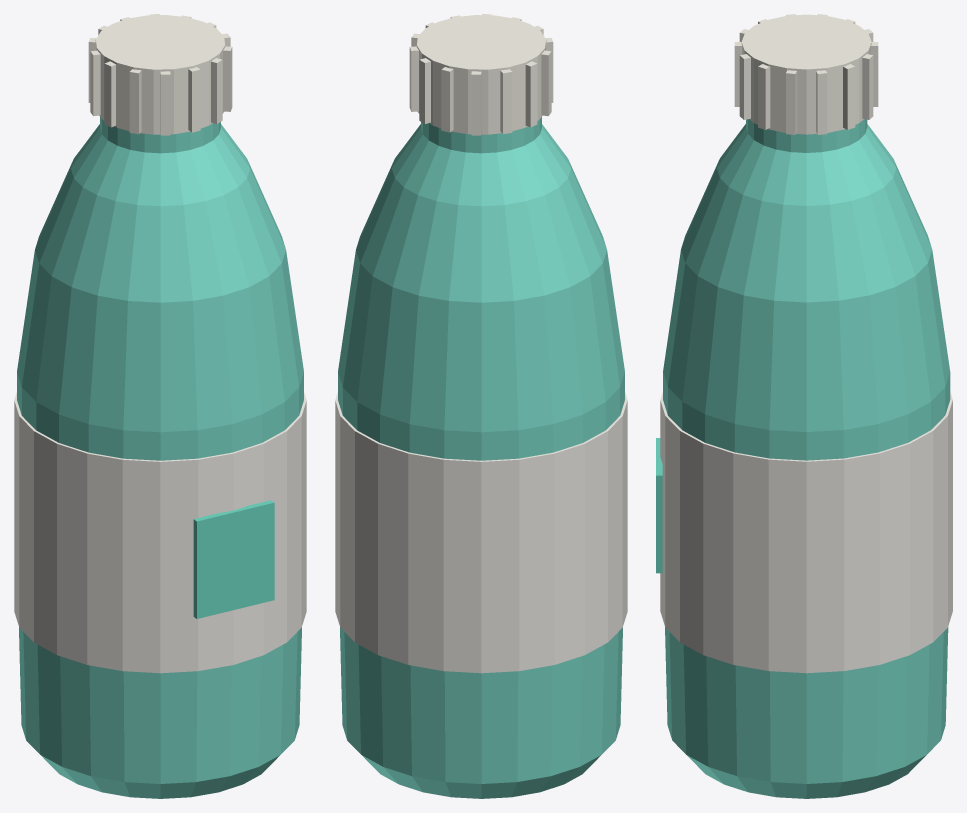
File: item_67_ad_milk.glb
3 renders of one model, left to right at view 1: azimuth 30°, elevation 25°; view 2: azimuth 150°, elevation 25°; view 3: azimuth 270°, elevation 25°, orthographic.
Visible parts, largest first — view 1: I67_Bottle, I67_Band, I67_Cap, I67_AD, I67_Rib10, I67_Rib7, I67_Rib9, I67_Rib6, I67_Rib8, I67_Rib11, I67_Rib5; view 2: I67_Bottle, I67_Band, I67_Cap, I67_Rib11, I67_Rib0, I67_Rib12, I67_Rib1, I67_Rib13, I67_Rib10, I67_Rib2; view 3: I67_Bottle, I67_Band, I67_Cap, I67_AD, I67_Rib2, I67_Rib5, I67_Rib4, I67_Rib3, I67_Rib6, I67_Rib1.
Boxes of the visible parts, <box> form: I67_Bottle: <box>17,117,303,798</box>; I67_Band: <box>14,392,306,673</box>; I67_Cap: <box>95,15,225,134</box>; I67_AD: <box>193,500,274,618</box>; I67_Rib10: <box>104,61,116,127</box>; I67_Rib7: <box>188,67,200,132</box>; I67_Rib9: <box>129,69,141,134</box>; I67_Rib6: <box>211,58,222,123</box>; I67_Rib8: <box>160,71,170,135</box>; I67_Rib11: <box>90,50,100,116</box>; I67_Rib5: <box>223,46,232,111</box>; I67_Bottle: <box>338,117,624,798</box>; I67_Band: <box>335,392,627,673</box>; I67_Cap: <box>416,15,546,134</box>; I67_Rib11: <box>525,61,537,127</box>; I67_Rib0: <box>441,67,453,132</box>; I67_Rib12: <box>500,69,512,134</box>; I67_Rib1: <box>419,58,430,123</box>; I67_Rib13: <box>471,71,481,135</box>; I67_Rib10: <box>541,50,551,116</box>; I67_Rib2: <box>409,46,418,111</box>; I67_Bottle: <box>663,119,950,798</box>; I67_Band: <box>660,392,952,673</box>; I67_Cap: <box>741,14,871,134</box>; I67_AD: <box>656,438,662,573</box>; I67_Rib2: <box>843,64,855,129</box>; I67_Rib5: <box>758,64,770,129</box>; I67_Rib4: <box>786,70,797,134</box>; I67_Rib3: <box>816,70,827,134</box>; I67_Rib6: <box>739,54,750,119</box>; I67_Rib1: <box>862,54,873,119</box>.
Bounding box in the file's own units: 0.0652 × 0.176 × 0.0661.
